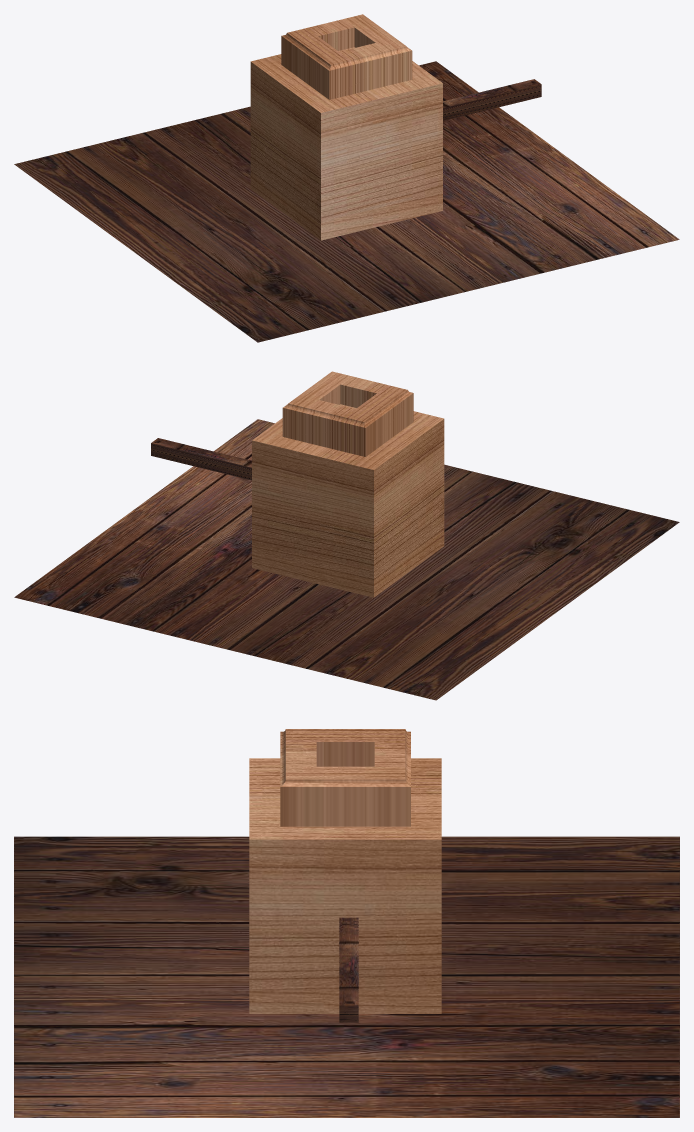
File: threeModel.glb
3 views of the same model, one above another, from view 1: azimuth 30°, elevation 25°; view 2: azimuth 150°, elevation 25°; view 3: azimuth 270°, elevation 25° (orthographic). The views are drawn at different scales.
Parts seen in each view (by area): view 1: Floor, Body, Gun; view 2: Floor, Body, Gun; view 3: Floor, Body, Gun.
Boxes of the visible parts, bbox=[...] form: Floor: bbox=[14, 61, 679, 342]; Body: bbox=[250, 14, 442, 240]; Gun: bbox=[443, 79, 541, 120]; Floor: bbox=[14, 419, 679, 700]; Body: bbox=[252, 371, 444, 597]; Gun: bbox=[151, 438, 251, 480]; Floor: bbox=[14, 836, 679, 1117]; Body: bbox=[249, 729, 441, 1013]; Gun: bbox=[339, 917, 358, 1022].
Bounding box in the file's own units: 6.92 × 2.55 × 6.92.
2 materials, 2 textured.
